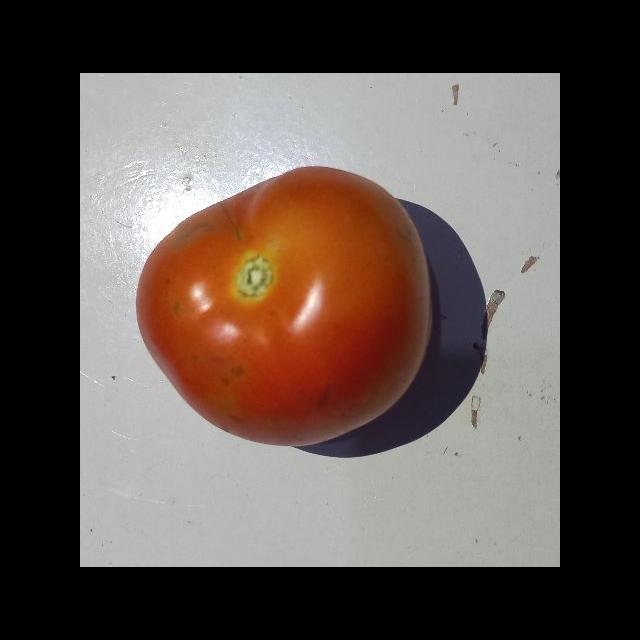tomato: (135, 151, 435, 451)
